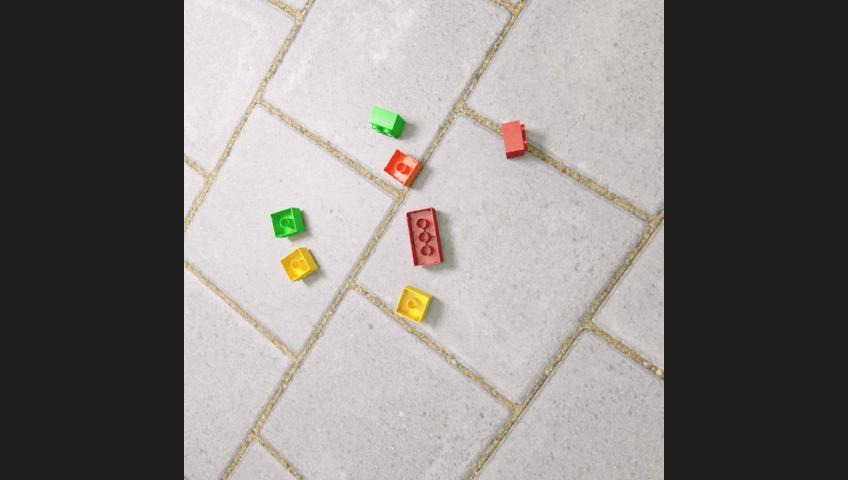2x2_green: (367, 106, 405, 138), (269, 207, 304, 237)
2x2_orange: (381, 149, 421, 187)
2x2_red: (500, 120, 527, 158)
2x2_yellow: (394, 286, 431, 323), (278, 248, 317, 282)
4x2_red: (404, 207, 443, 266)
